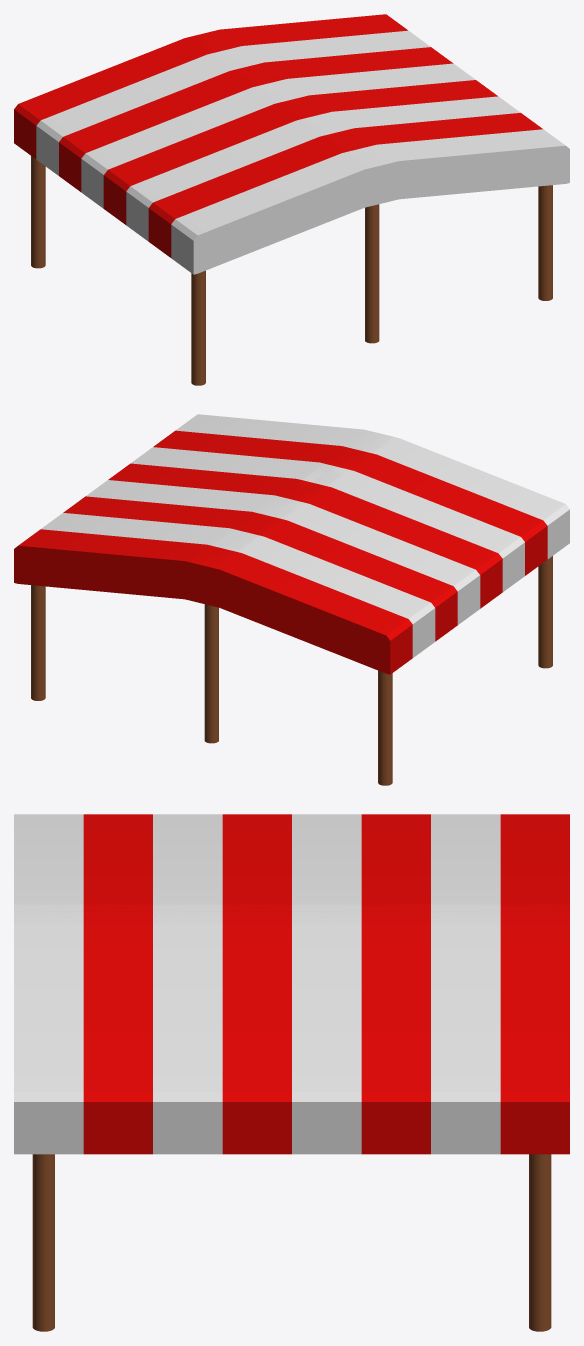
The model's file is Carnival Tent Large.fbx.
3 views of the same model, one above another, from view 1: azimuth 30°, elevation 25°; view 2: azimuth 150°, elevation 25°; view 3: azimuth 270°, elevation 25° (orthographic). The views are drawn at different scales.
Visible parts, largest first — view 1: Plane, Cylinder.002, Cylinder, Cylinder.004, Cylinder.005; view 2: Plane, Cylinder.003, Cylinder.001, Cylinder.005, Cylinder.004; view 3: Plane, Cylinder, Cylinder.001.
Boxes of the visible parts, x1,y1,x2,y2 form: Plane: (14,14,569,274); Cylinder.002: (365,204,379,343); Cylinder: (538,185,552,300); Cylinder.004: (191,270,205,385); Cylinder.005: (31,156,45,268); Plane: (14,414,569,674); Cylinder.003: (204,604,218,743); Cylinder.001: (31,585,45,700); Cylinder.005: (378,670,392,785); Cylinder.004: (538,556,552,668); Plane: (14,814,569,1154); Cylinder: (32,1154,54,1331); Cylinder.001: (529,1154,551,1331).
Bounding box in the file's own units: 2169 × 1003 × 1793.
